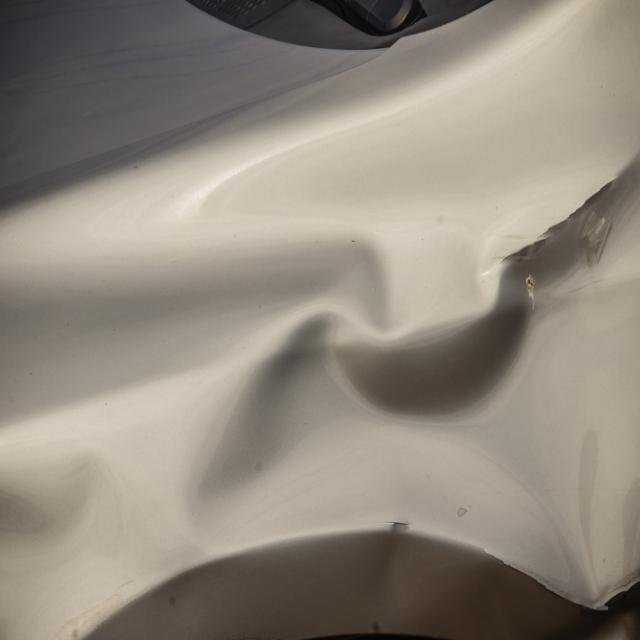Cabossage: (187, 262, 640, 604), (0, 237, 386, 417), (0, 434, 133, 640)
Rayure: (498, 175, 614, 311)
